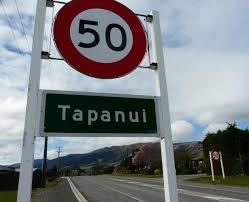sp50: (54, 1, 140, 67)
